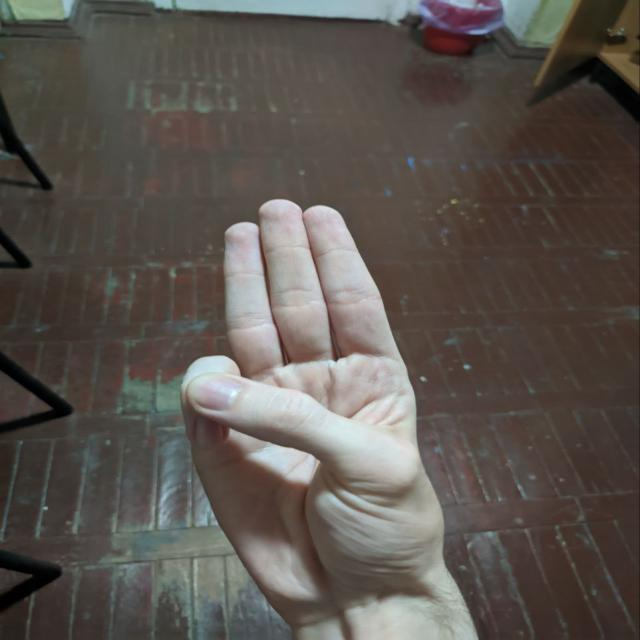sh: (131, 196, 468, 572)
